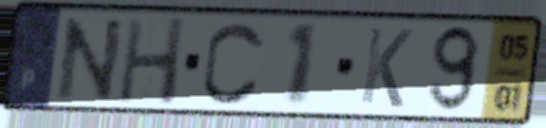1: (282, 20, 321, 110)
9: (424, 22, 485, 116)
C: (199, 18, 268, 108)
H: (114, 15, 190, 109)
K: (356, 24, 416, 111)
N: (54, 15, 128, 104)
